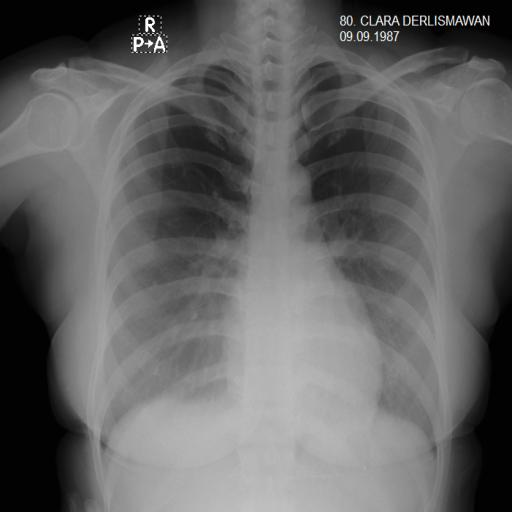normal: (88, 30, 446, 478)
